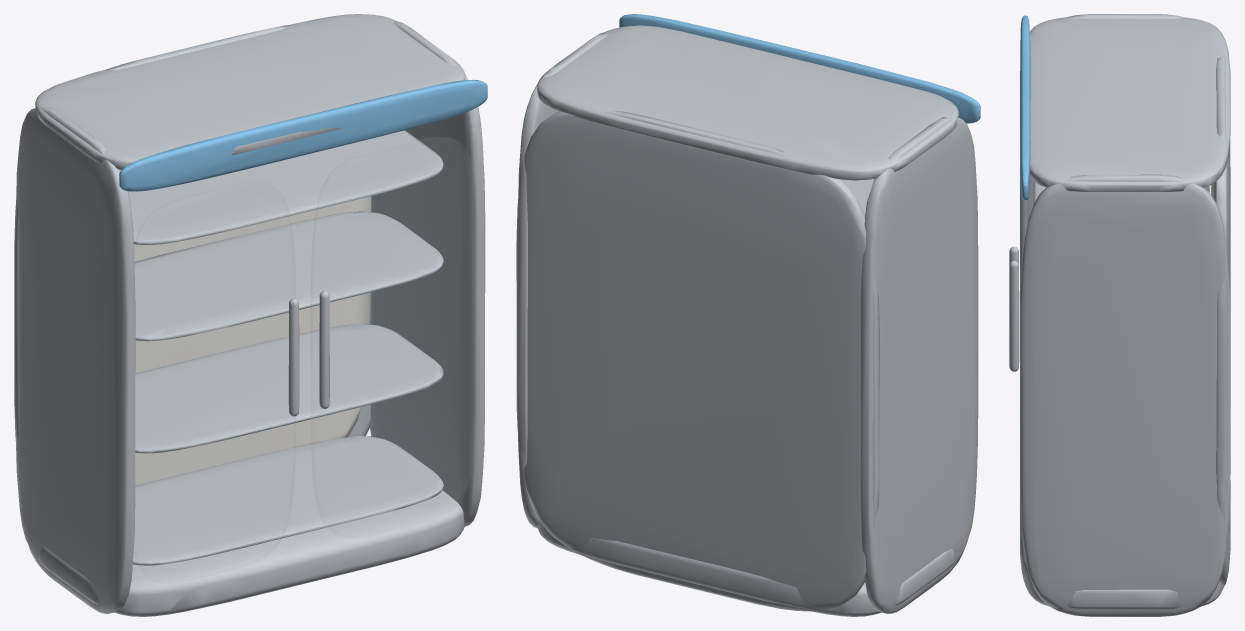
File: vitrina_nevera_2.glb
3 views of the same model, side by side, from view 1: azimuth 30°, elevation 25°; view 2: azimuth 150°, elevation 25°; view 3: azimuth 270°, elevation 25° (orthographic). The views are drawn at different scales.
Visible parts, largest first — view 1: costado.004, techo.002, costado.005, repisa.008, repisa.010, repisa.009, piso.002, repisa.011, panel interior.001, corona, fondo.002, manija.002 (+1 smaller); view 2: fondo.002, costado.004, techo.002, piso.002, costado.005, corona; view 3: costado.005, techo.002, fondo.002, piso.002, corona, costado.004, manija.003.
Part boxes in pixels (x1,y1,x2,y2): costado.004: [16, 107, 135, 613]; techo.002: [35, 14, 465, 169]; costado.005: [370, 21, 485, 526]; repisa.008: [133, 436, 443, 565]; repisa.010: [134, 211, 443, 341]; repisa.009: [135, 324, 443, 453]; piso.002: [38, 490, 464, 616]; repisa.011: [128, 130, 443, 244]; panel interior.001: [133, 196, 371, 485]; corona: [119, 79, 487, 191]; fondo.002: [14, 24, 370, 449]; manija.002: [288, 298, 299, 416]; fondo.002: [516, 111, 879, 611]; costado.004: [860, 117, 978, 613]; techo.002: [537, 25, 958, 180]; piso.002: [537, 520, 955, 616]; costado.005: [517, 32, 607, 528]; corona: [619, 14, 980, 123]; costado.005: [1020, 174, 1230, 616]; techo.002: [1020, 17, 1230, 191]; fondo.002: [1211, 55, 1230, 585]; piso.002: [1020, 480, 1230, 609]; corona: [1020, 15, 1030, 200]; costado.004: [1020, 14, 1208, 313]; manija.003: [1009, 260, 1019, 371].
Size of the model in its own units: 1.44 by 1.77 by 0.7972.
